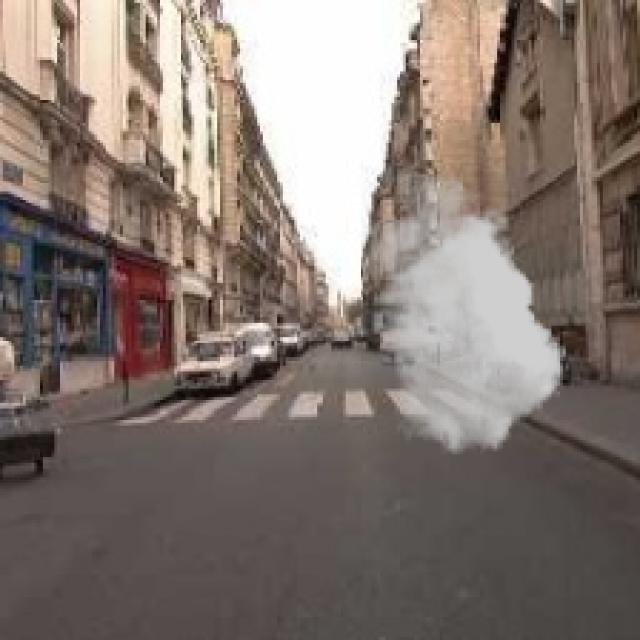Smoke: (360, 174, 563, 454)
